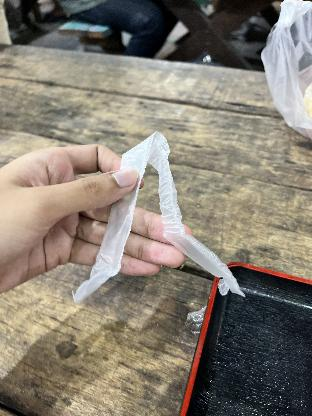Others: (68, 127, 250, 301), (258, 1, 312, 140)
